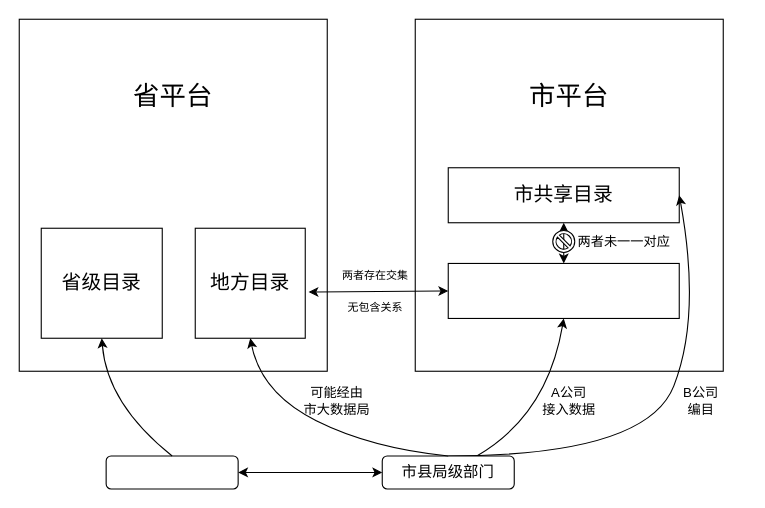
This 765x508 diagram has some shape labels left out. Here are the shapes that lost their labels. From the top down, the centre of each, then its label:
point (563, 290): 市大数据局Oracle数据库
point (171, 472): 省厅级部门
